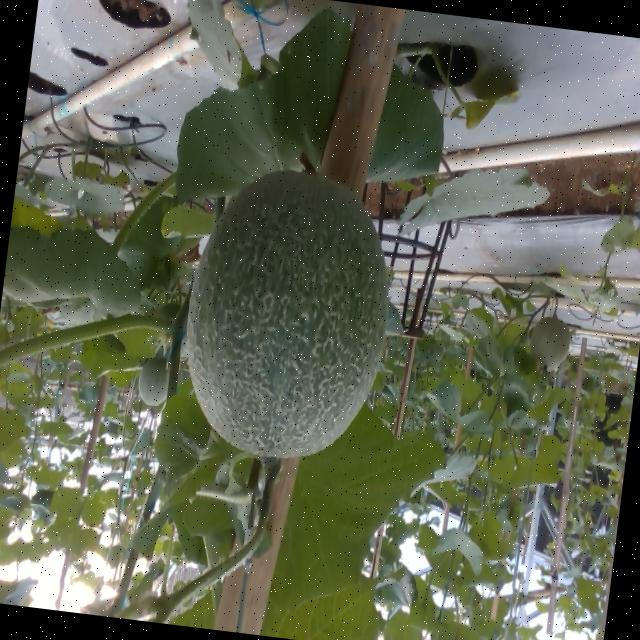melon: (184, 169, 386, 455)
